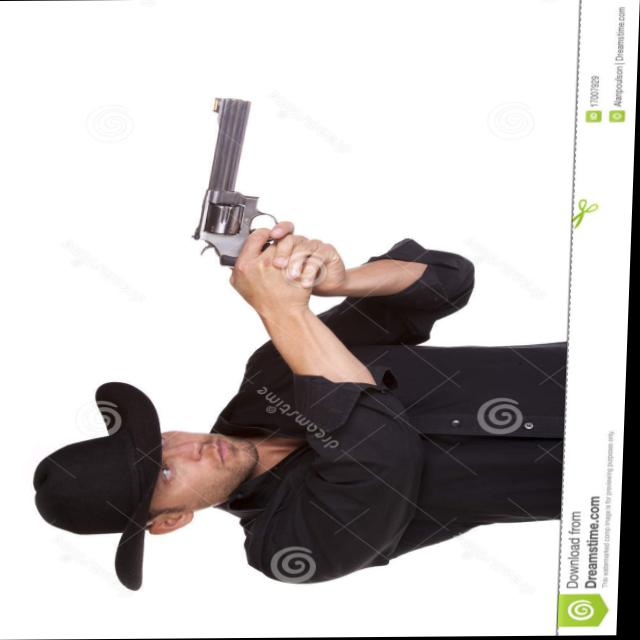handgun: (190, 93, 285, 268)
